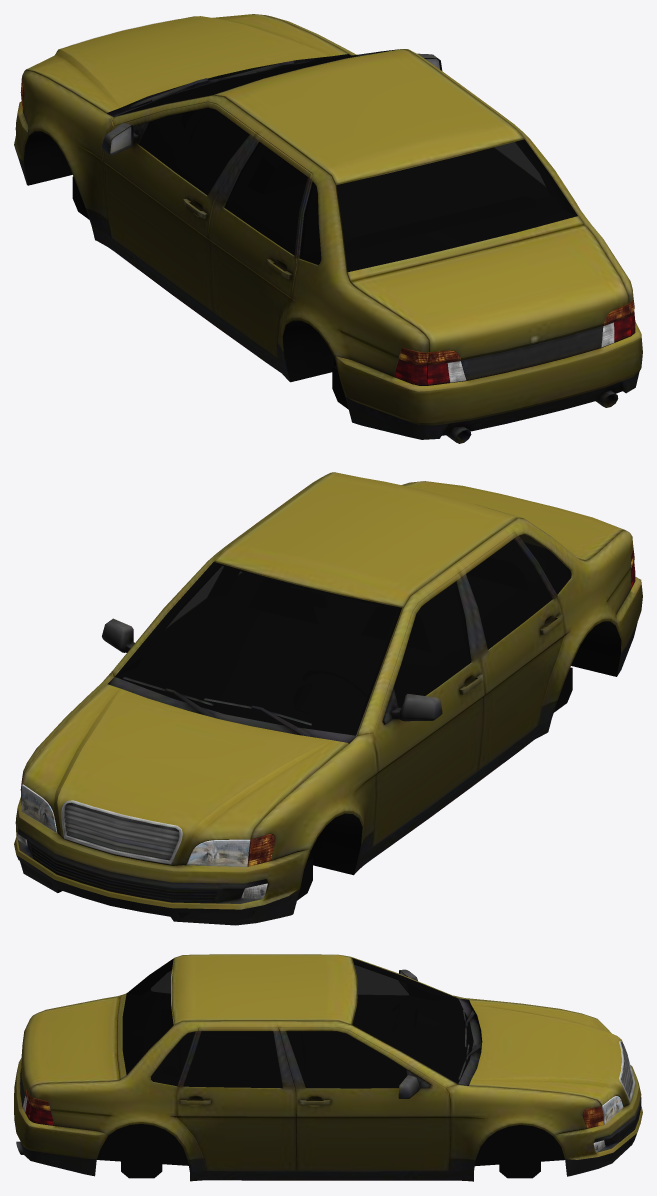
File: auto-sedan.glb
The picture shows the model from 3 angles, top to bottom: view 1: azimuth 30°, elevation 25°; view 2: azimuth 150°, elevation 25°; view 3: azimuth 270°, elevation 25°; orthographic projection. The views are drawn at different scales.
Parts seen in each view (by area): view 1: Sedan Body; view 2: Sedan Body; view 3: Sedan Body.
Part boxes in pixels (box(x1,y1,x2,y2)): Sedan Body: box(14, 14, 642, 443); Sedan Body: box(14, 472, 642, 925); Sedan Body: box(14, 954, 642, 1181).
Bounding box in the file's own units: 1.94 × 1.2 × 4.36.
Materials: 3 (2 with a texture image).
